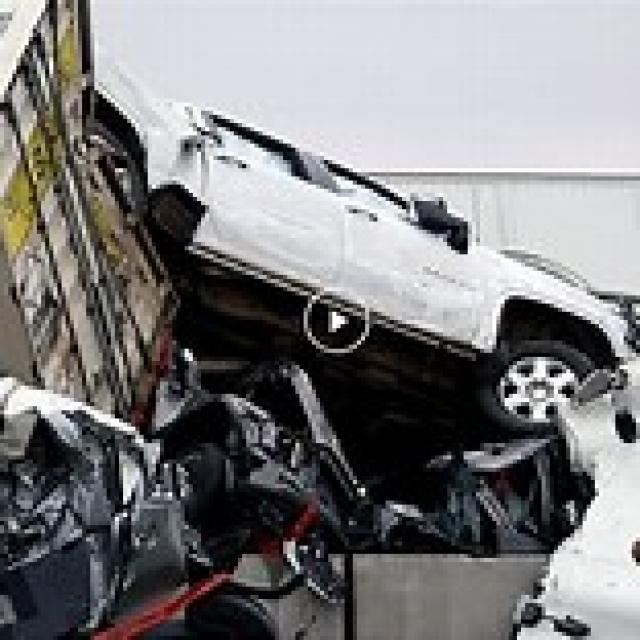Accident: (15, 36, 640, 525)
